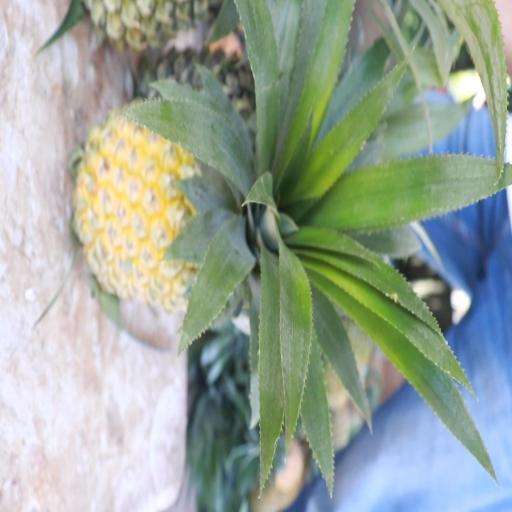Pineapple - v8 v1: (76, 104, 319, 298)
